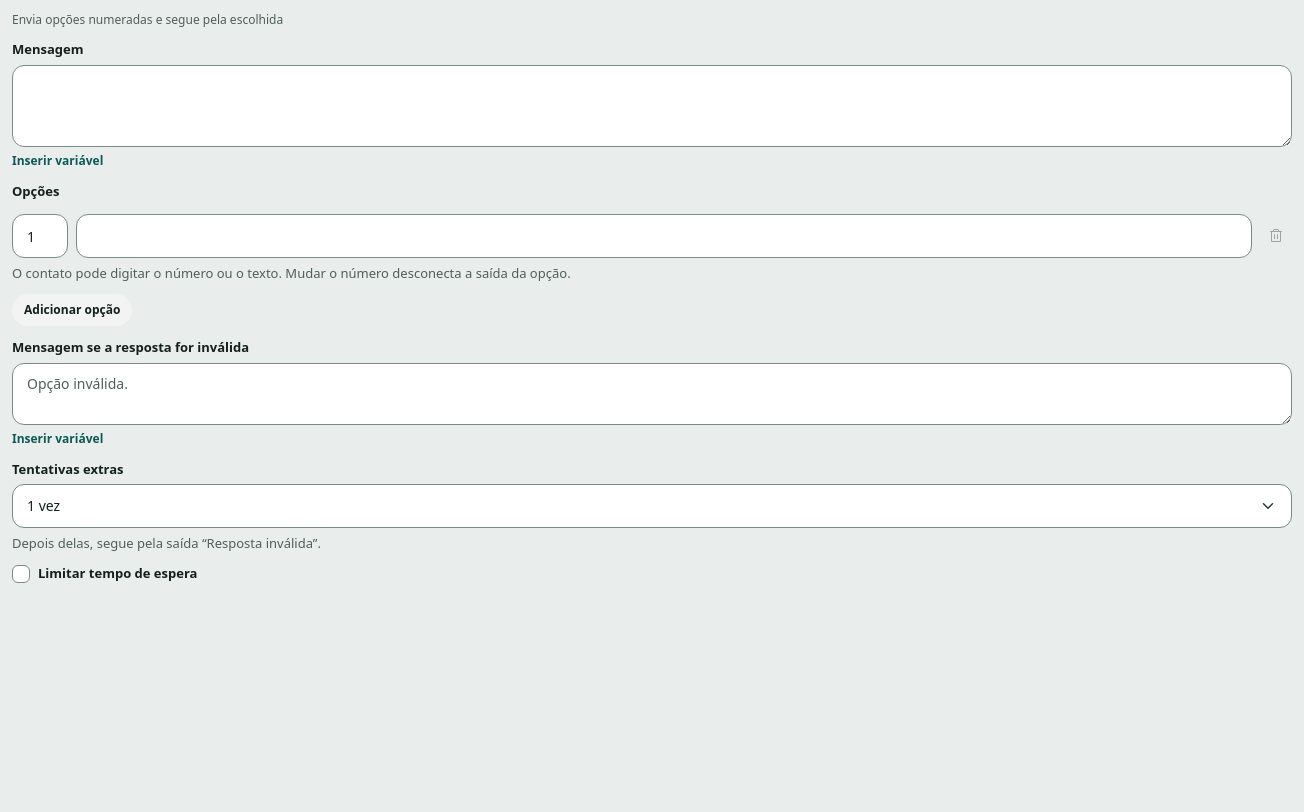
Test: BlockConfigCard › ask_choice: adds numbered options, edits and removes them, and keeps at least one
This screenshot has width=1304, height=812.
In the field named "Opção 1: texto": (664, 236) [76, 214, 1252, 258], type "Atendimento"
Click the button "Adicionar opção": click(72, 310) [12, 294, 132, 326]
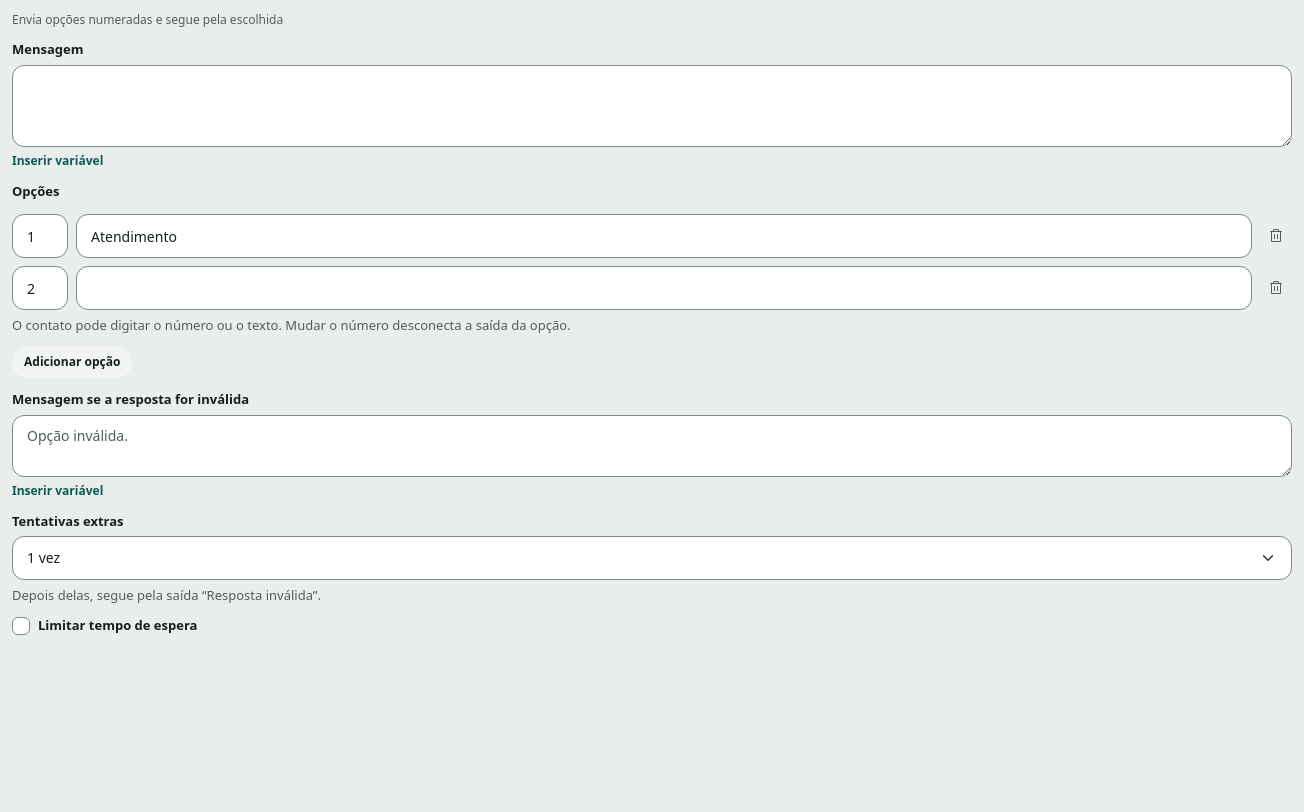
Click the button "Adicionar opção": click(72, 362) [12, 346, 132, 378]
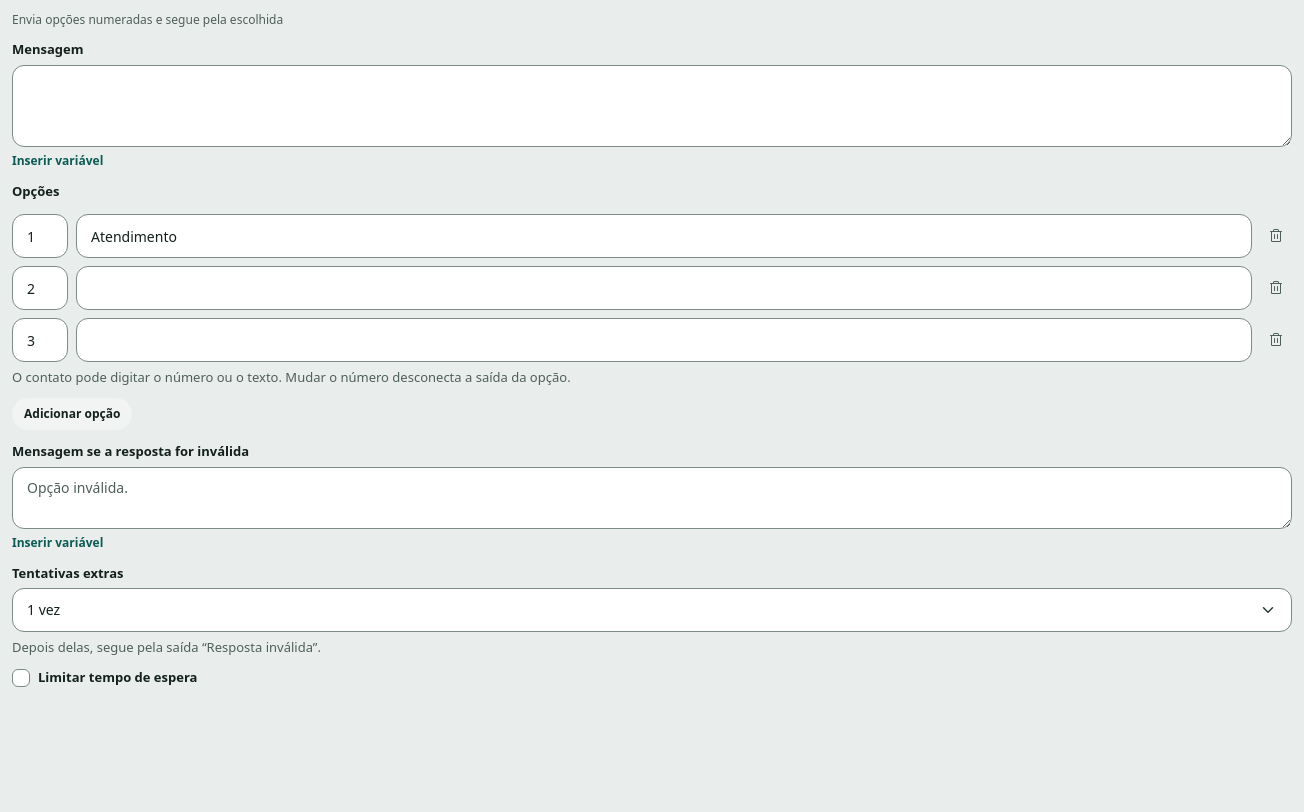
In the field named "Opção 3: texto": (664, 340) [76, 318, 1252, 362], type "Processos"
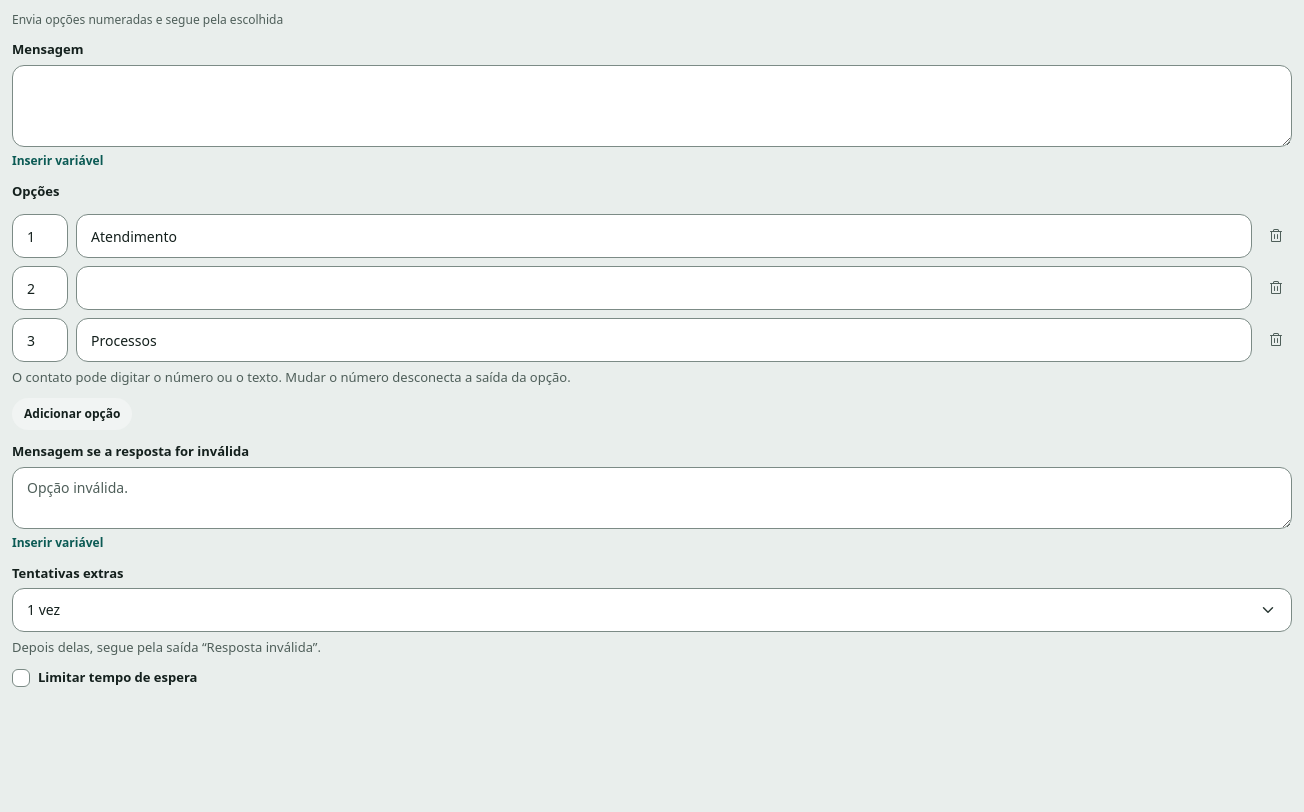
Click the button named "Remover opção 2": click(1276, 288) [1260, 272, 1292, 304]
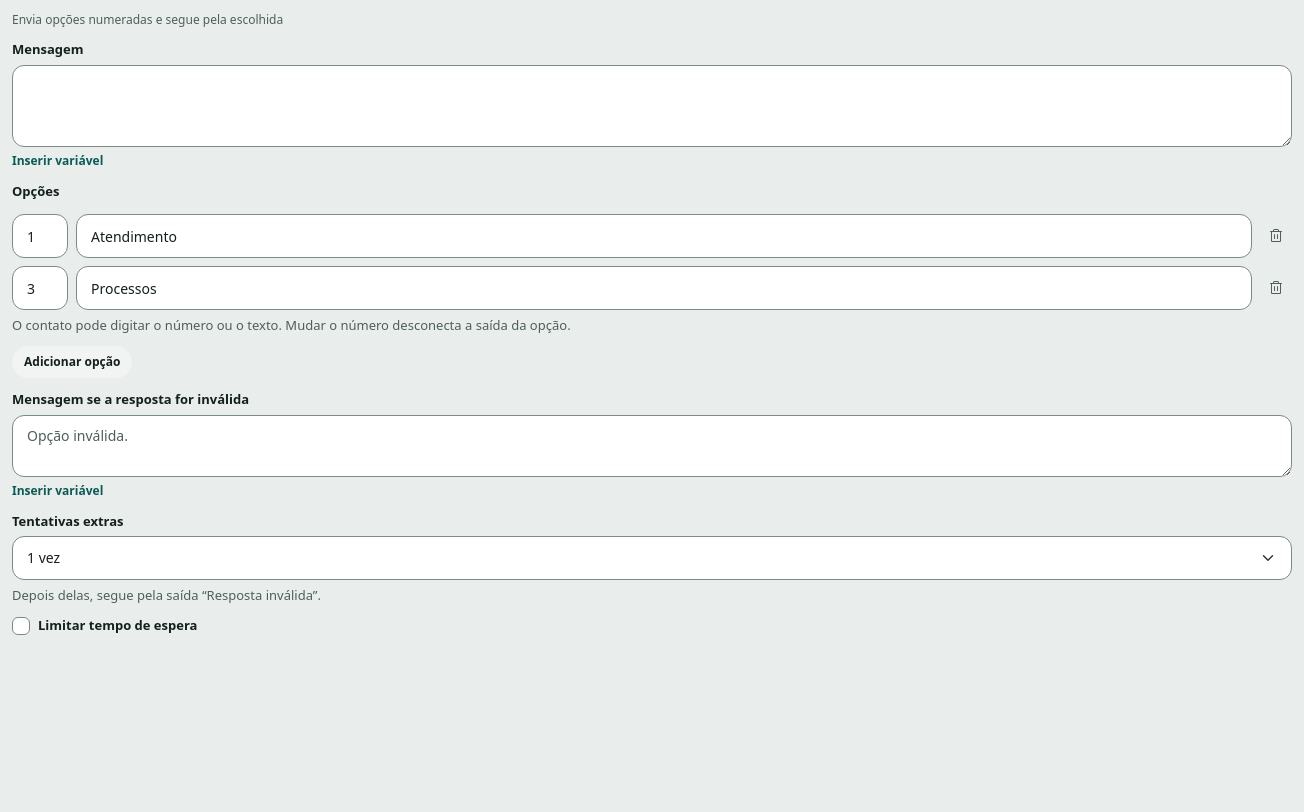
Replace the text in the field named "Opção 2: número" with " 2 ": (40, 288) [12, 266, 68, 310]
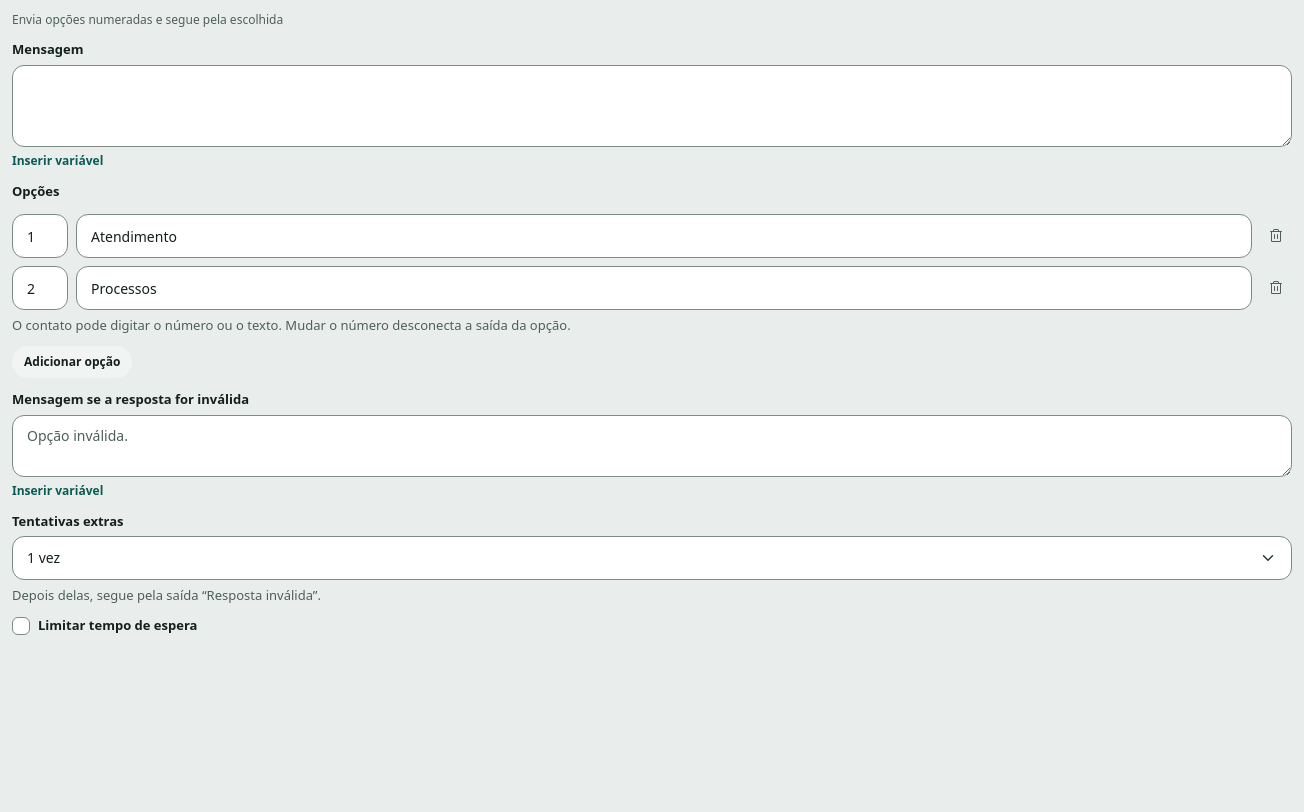
Click the button named "Remover opção 2": click(1276, 288) [1260, 272, 1292, 304]
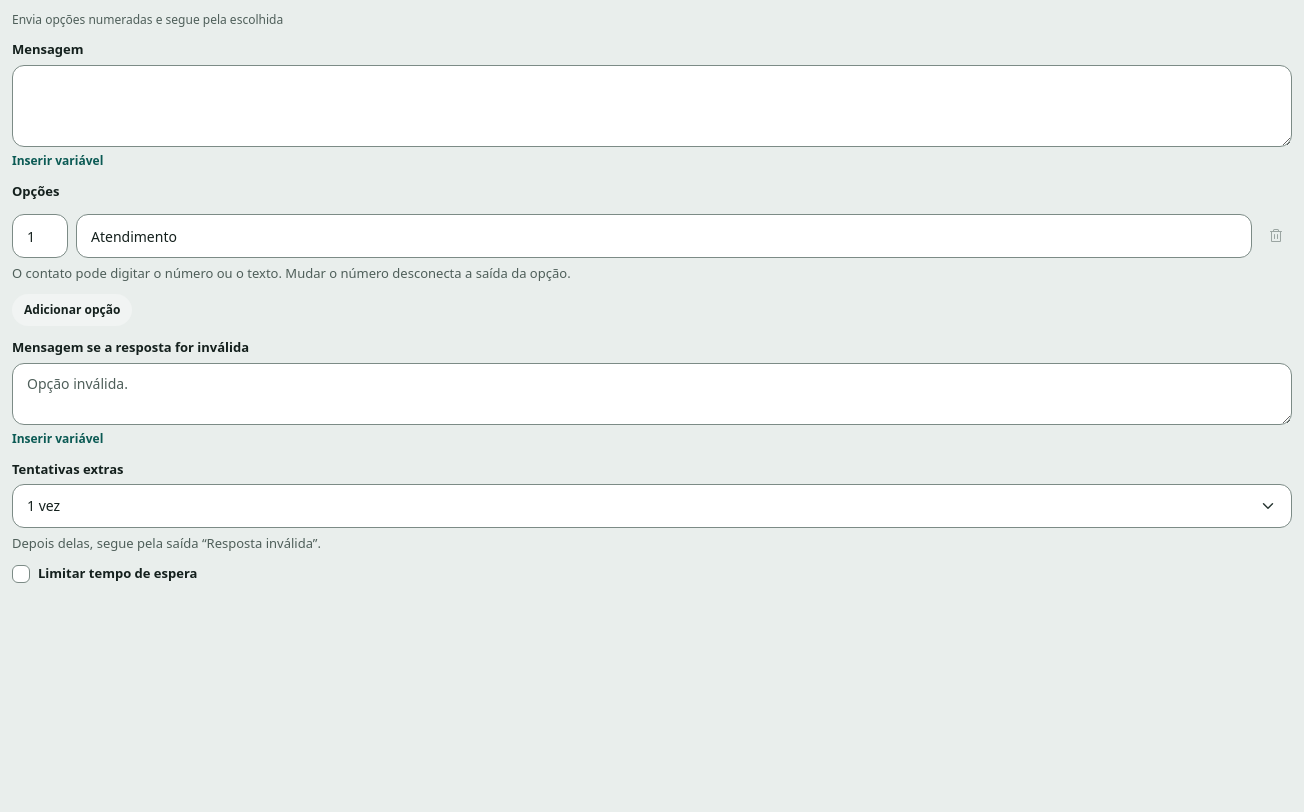
Now the button named "Remover opção 1" is disabled, box [1260, 220, 1292, 252]
